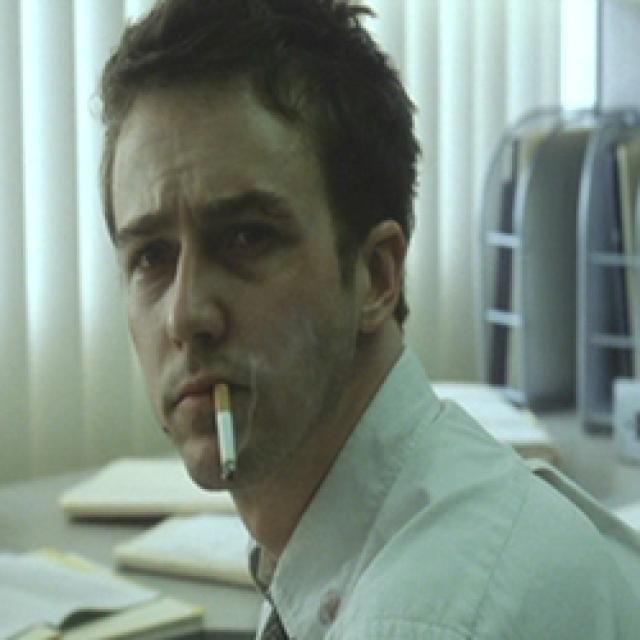Smooking: (205, 376, 256, 489)
